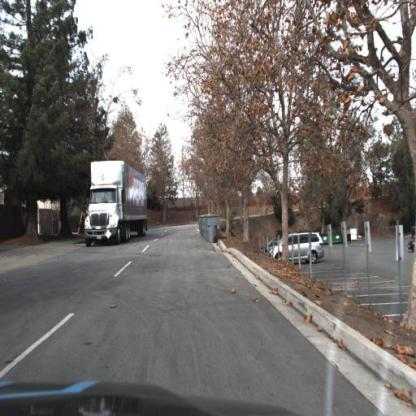car: (267, 230, 325, 263)
truck: (84, 158, 150, 248)
